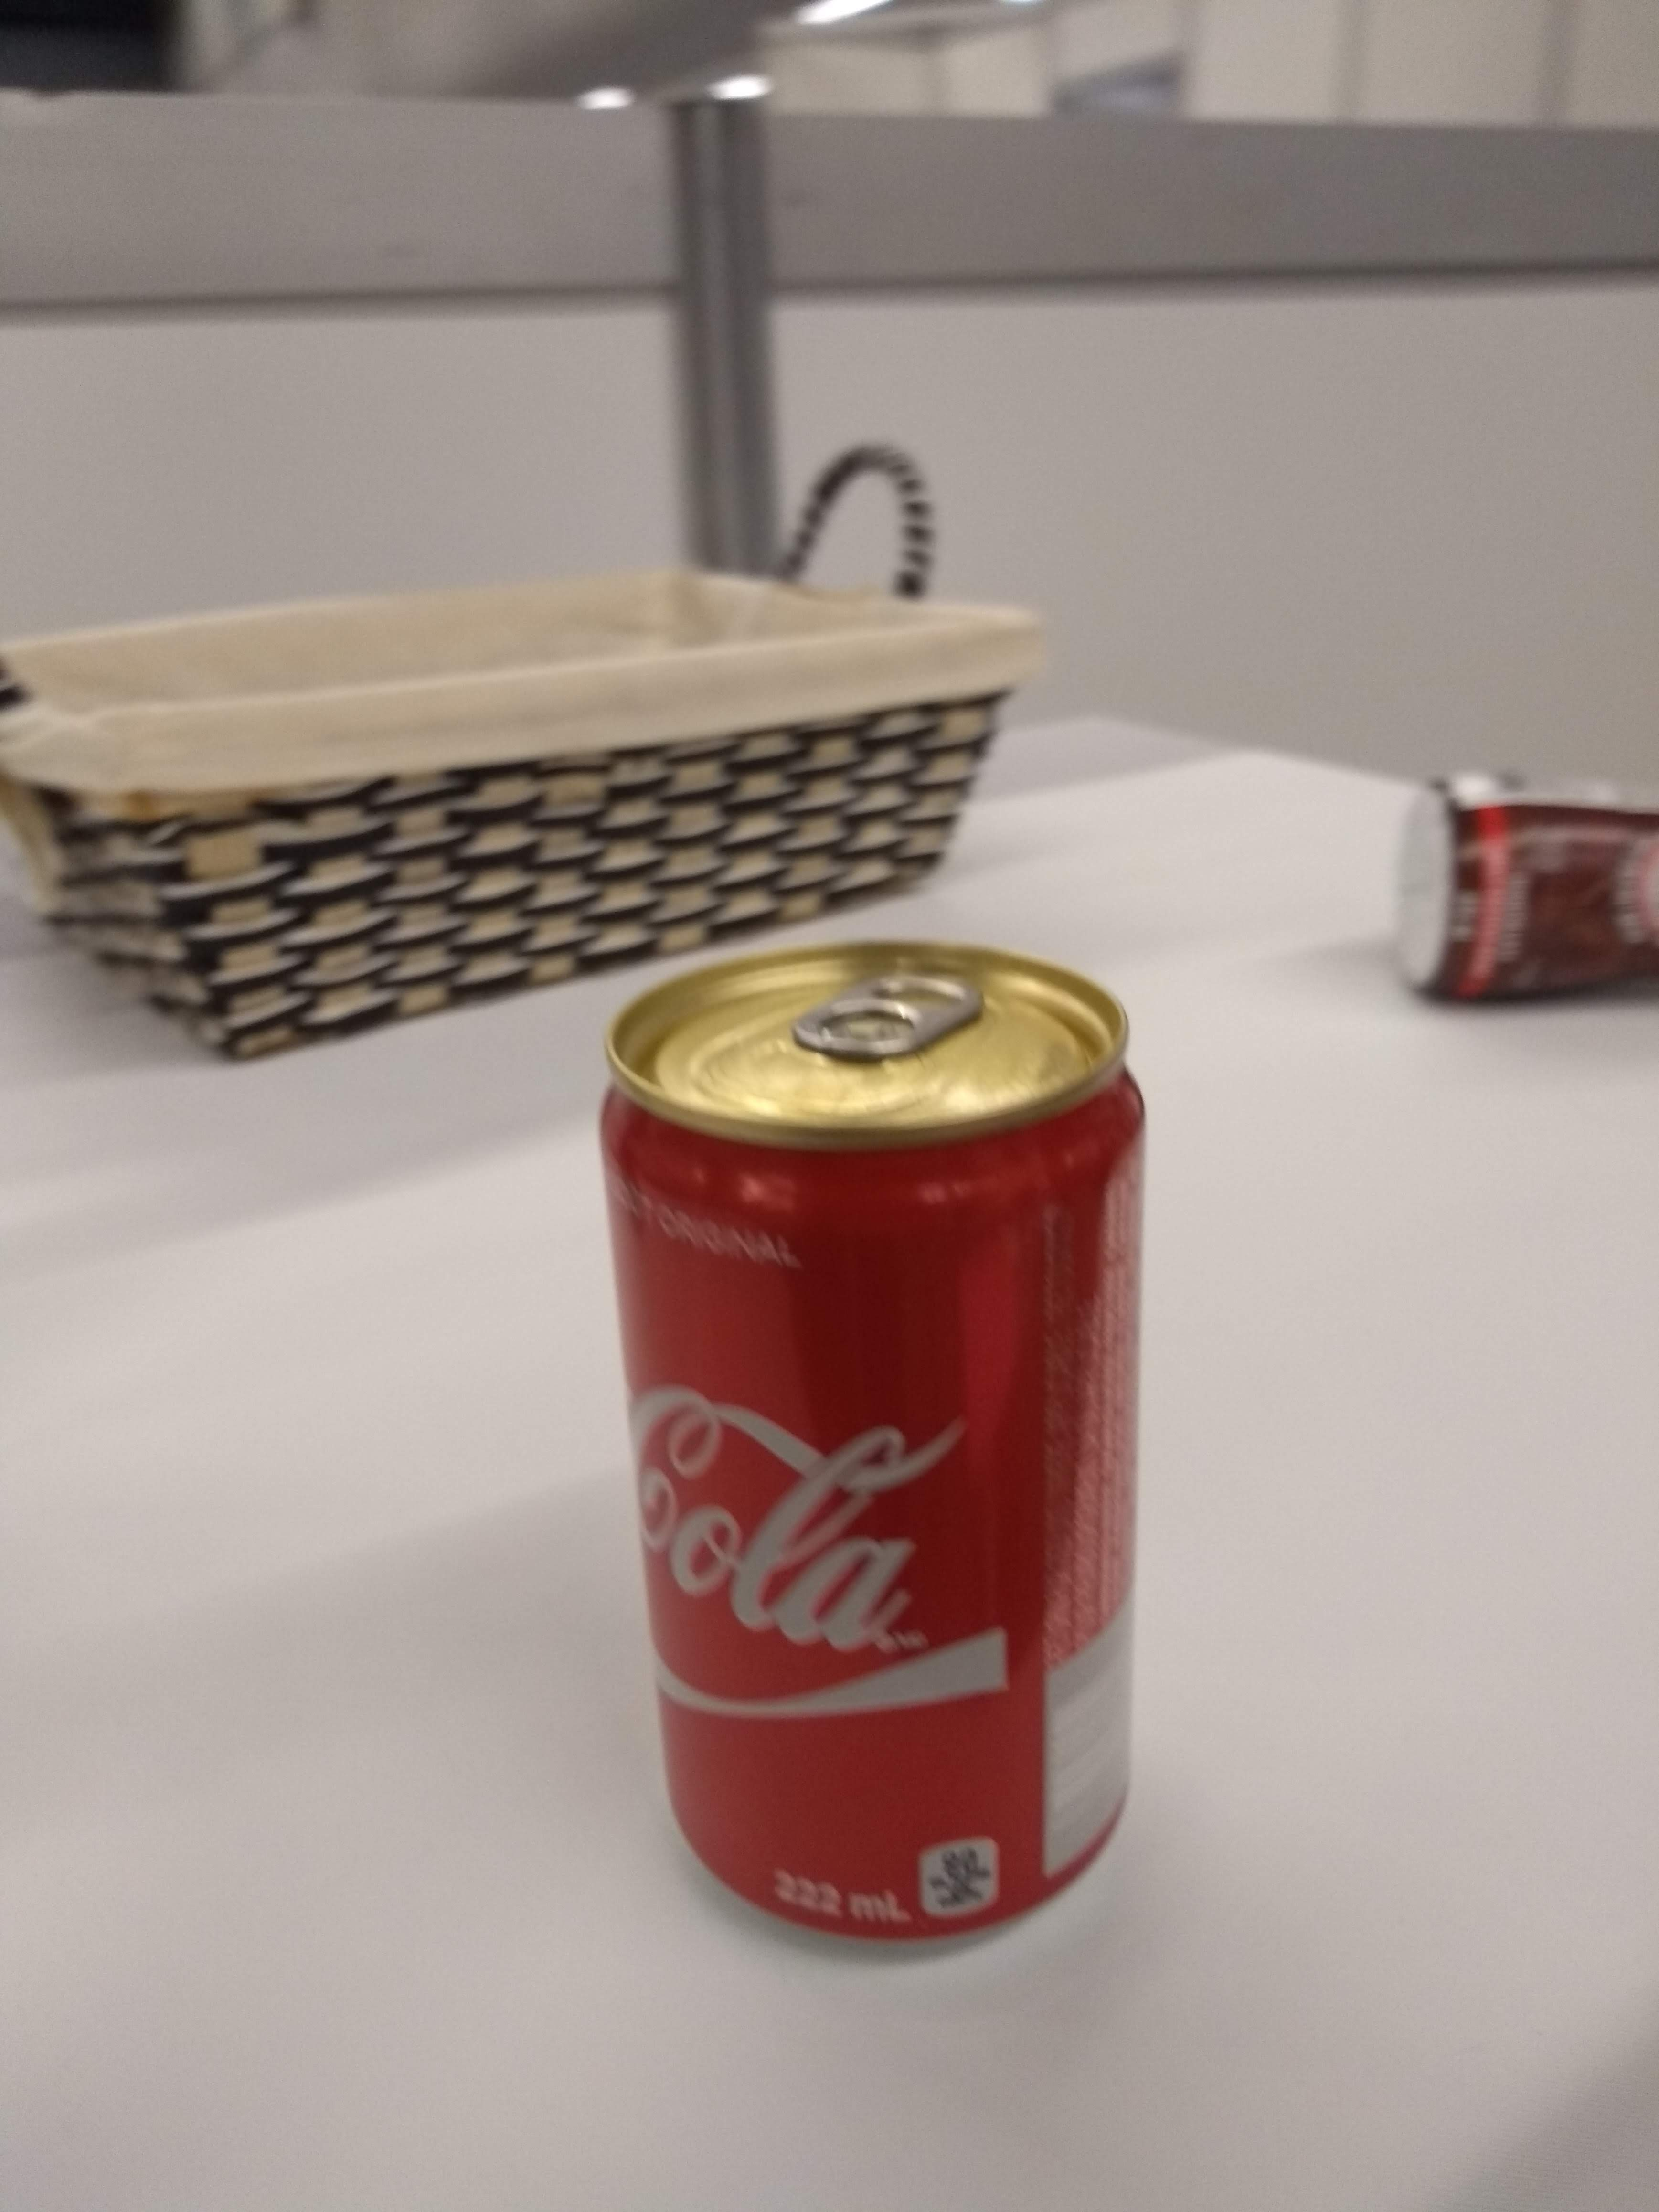coke: (579, 930, 1185, 1966)
